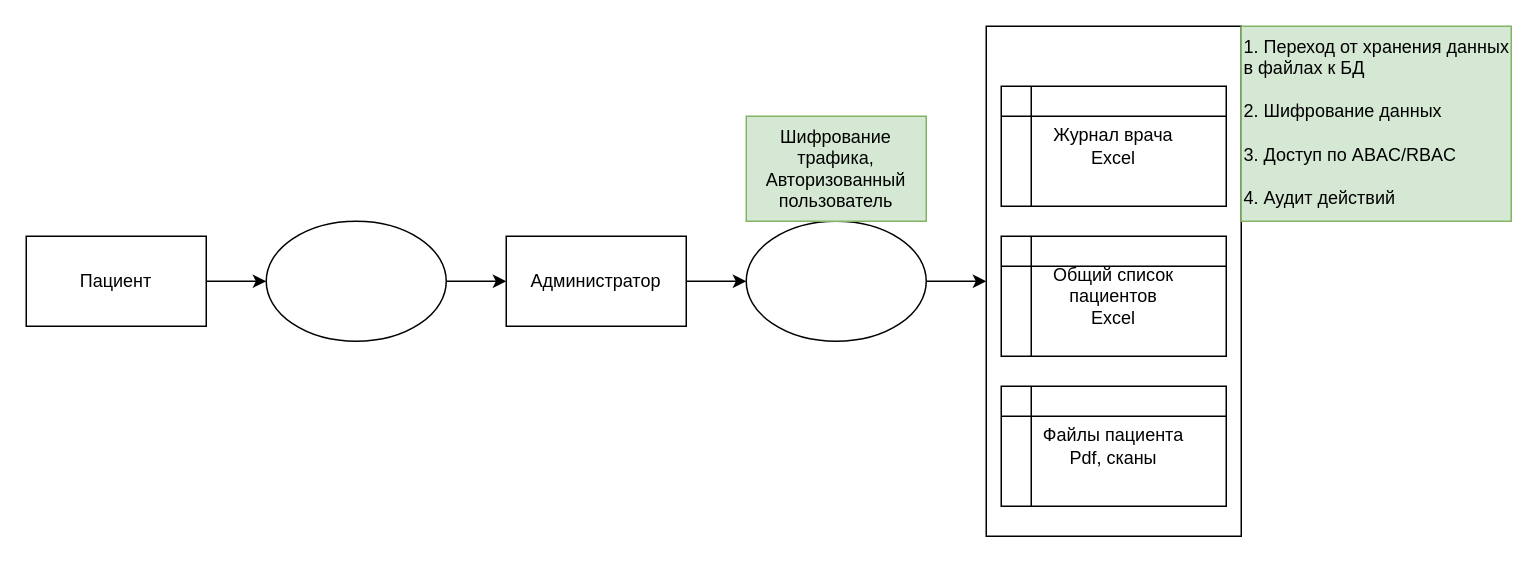
Some shapes in this 1538 by 563 pixel diagram are drawn without their labels. The shapes that lost their labels are listed below. From the top down, each one's box as (x1, y1, x2, y2) in pixels, then its label:
(265, 220, 446, 341): Передача персональных данных
(745, 220, 926, 341): Внесение данных
(985, 25, 1241, 536): Файловое хранилище
